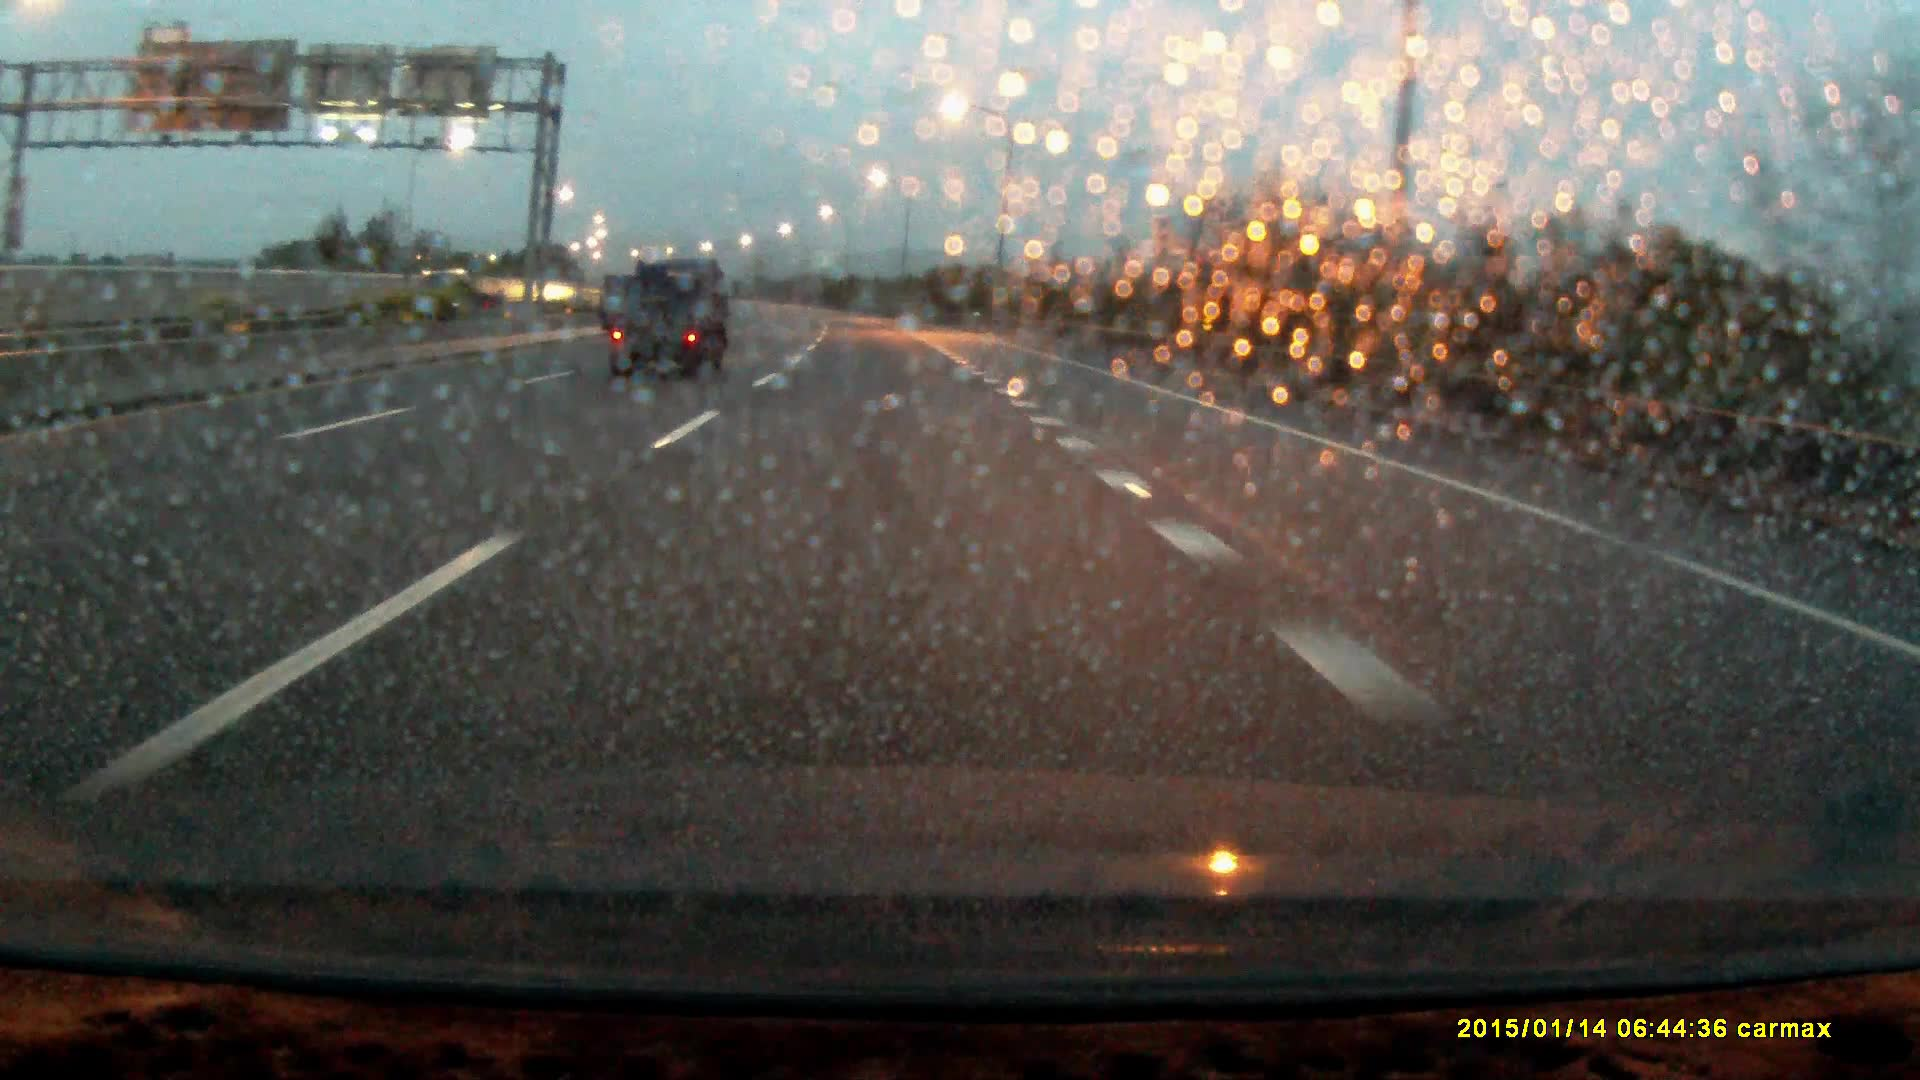vehicle: (607, 257, 733, 380), (419, 266, 520, 315)
